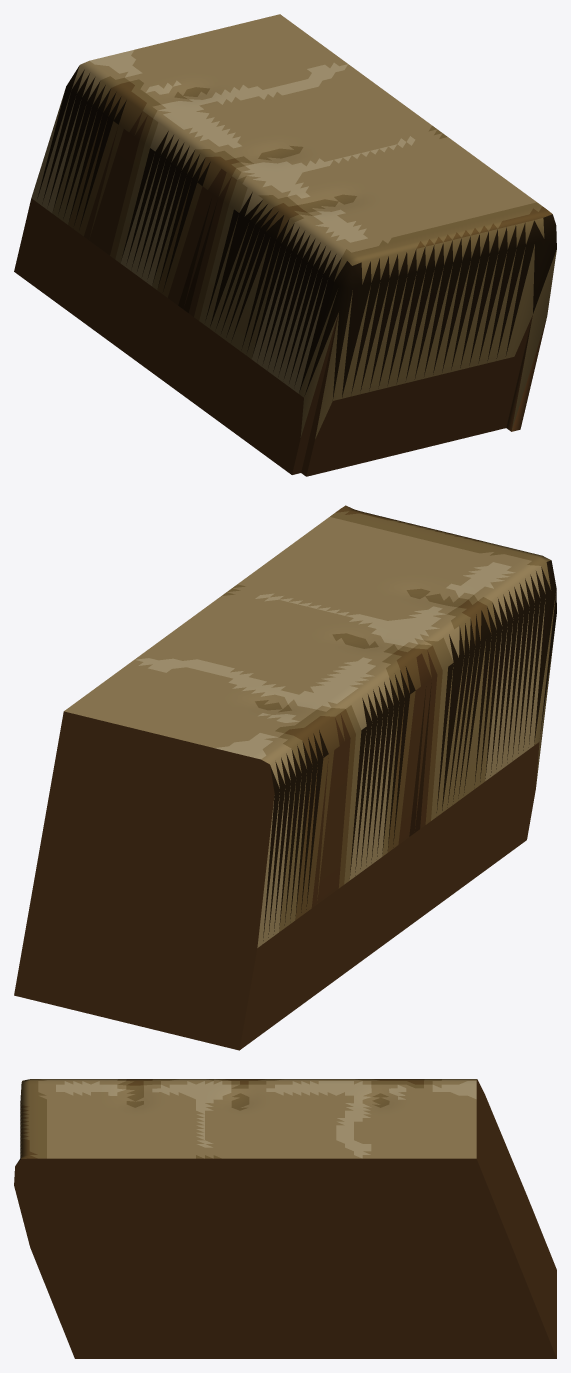
The model's file is skull_chest_b1.glb.
The picture shows the model from 3 angles, top to bottom: view 1: azimuth 30°, elevation 25°; view 2: azimuth 150°, elevation 25°; view 3: azimuth 270°, elevation 25°; orthographic projection. The views are drawn at different scales.
Visible parts, largest first — view 1: skull_chest_b1; view 2: skull_chest_b1; view 3: skull_chest_b1.
Part boxes in pixels (x1,y1,x2,y2): skull_chest_b1: [14, 14, 556, 476]; skull_chest_b1: [14, 505, 556, 1050]; skull_chest_b1: [14, 1079, 556, 1358].
Size of the model in its own units: 12 by 12.6 by 30.97.
